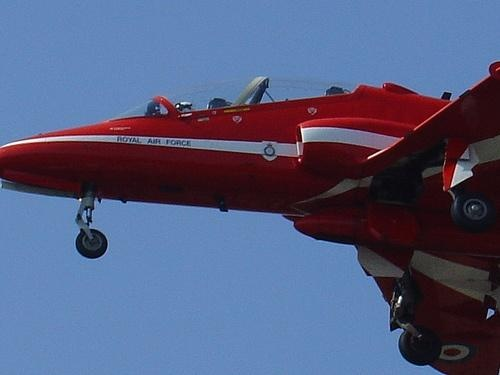aeroplane: (1, 61, 500, 375)
